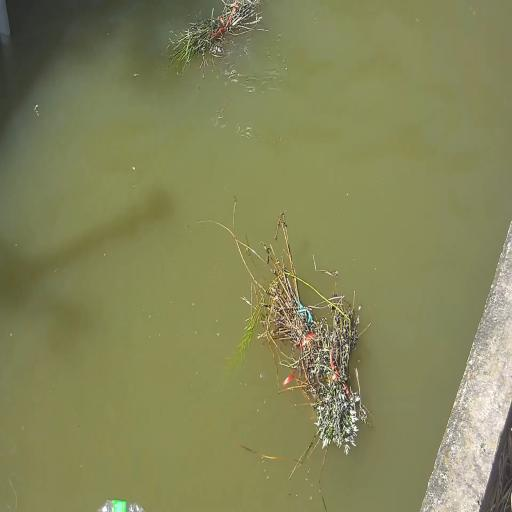plastic: (98, 500, 143, 511)
twig: (223, 212, 367, 452), (170, 0, 265, 71)
